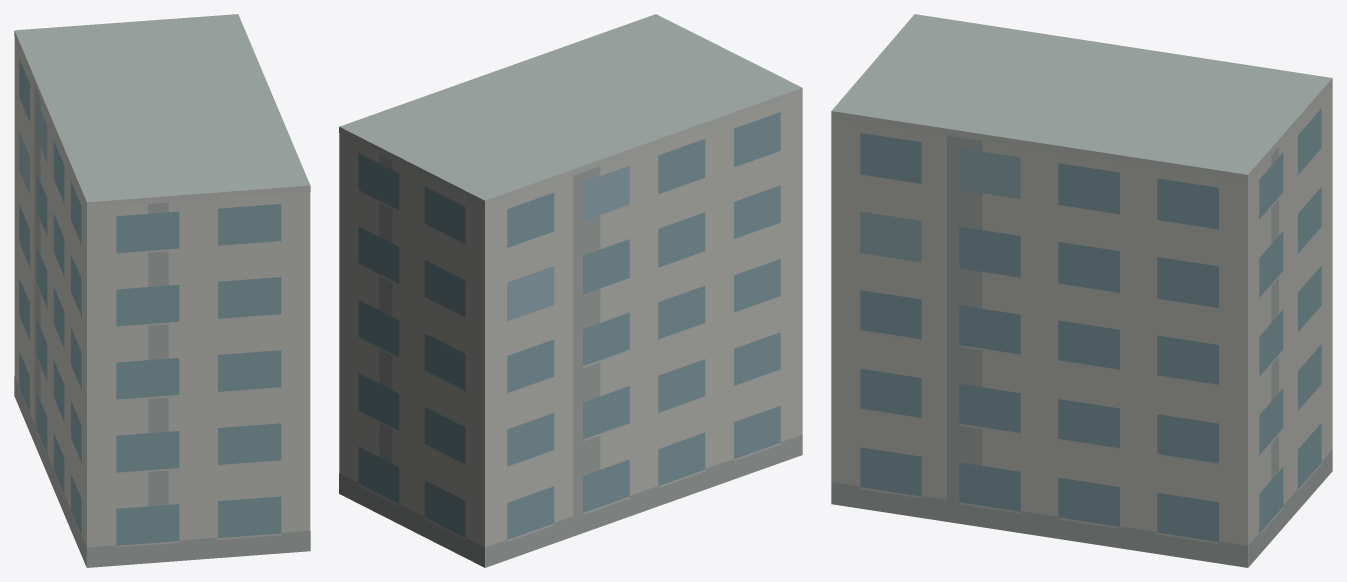
File: survey-upis-32888494.glb
The picture shows the model from 3 angles, left to right: view 1: azimuth 30°, elevation 25°; view 2: azimuth 150°, elevation 25°; view 3: azimuth 270°, elevation 25°; orthographic projection. The views are drawn at different scales.
Visible parts, largest first — view 1: survey-upis-32888494.tmp; view 2: survey-upis-32888494.tmp; view 3: survey-upis-32888494.tmp.
Boxes of the visible parts, bbox=[...] form: survey-upis-32888494.tmp: bbox=[14, 14, 310, 567]; survey-upis-32888494.tmp: bbox=[339, 14, 802, 567]; survey-upis-32888494.tmp: bbox=[831, 14, 1332, 567].
Size of the model in its own units: 12.2 by 13.9 by 16.07.
